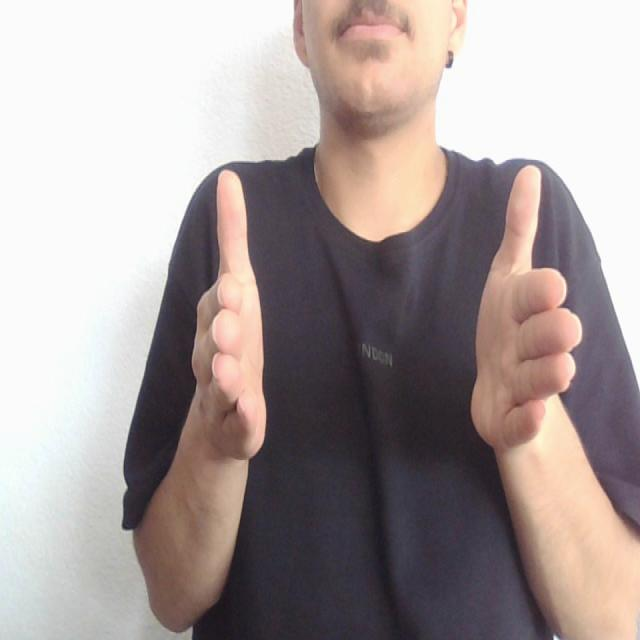Nasil: (179, 136, 586, 522)
